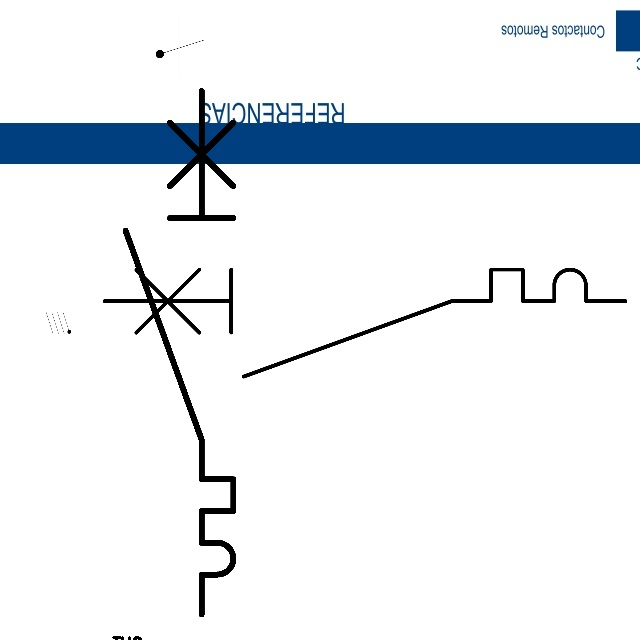interruptor_termomagnetico: (112, 77, 247, 628), (90, 256, 638, 390)
